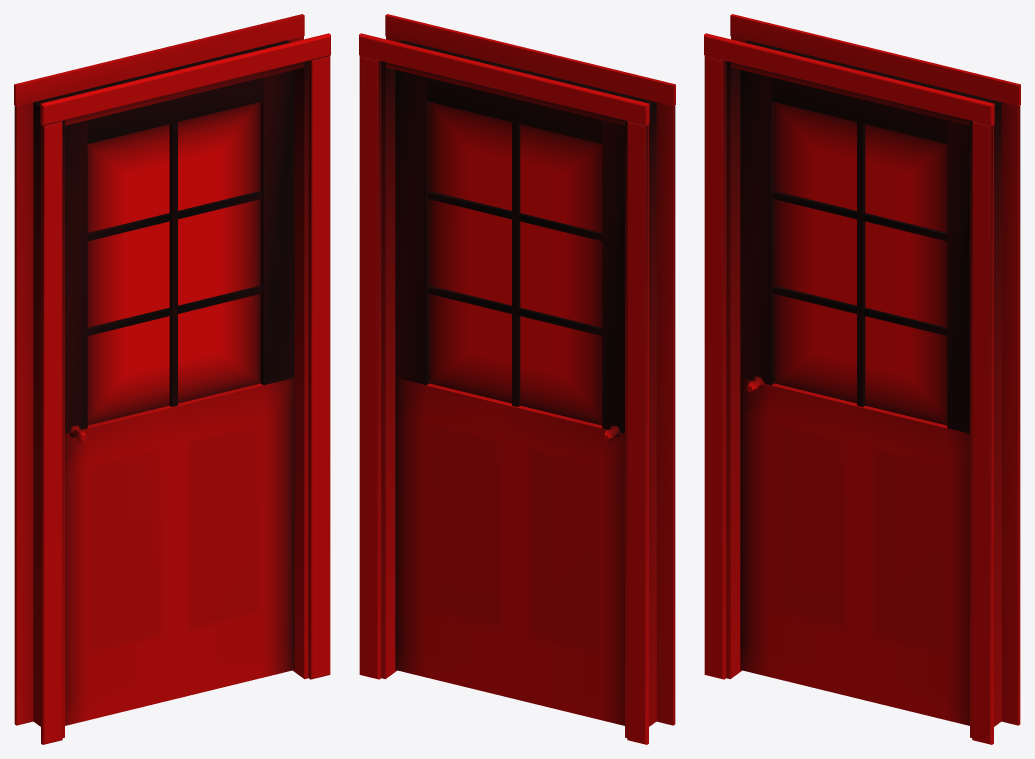
Rendered from CI_Shell_Door_Glazed.fbx.
3 renders of one model, left to right at view 1: azimuth 30°, elevation 25°; view 2: azimuth 150°, elevation 25°; view 3: azimuth 330°, elevation 25°, orthographic.
Visible parts, largest first — view 1: CI_Shell_Door_Glazed; view 2: CI_Shell_Door_Glazed; view 3: CI_Shell_Door_Glazed.
Boxes of the visible parts, x1,y1,x2,y2 form: CI_Shell_Door_Glazed: (14, 14, 330, 744); CI_Shell_Door_Glazed: (359, 14, 675, 744); CI_Shell_Door_Glazed: (704, 14, 1020, 744).
Size of the model in its own units: 1.02 by 2.17 by 0.186.
